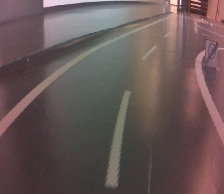zone 30 stop sign: (203, 37, 220, 69)
